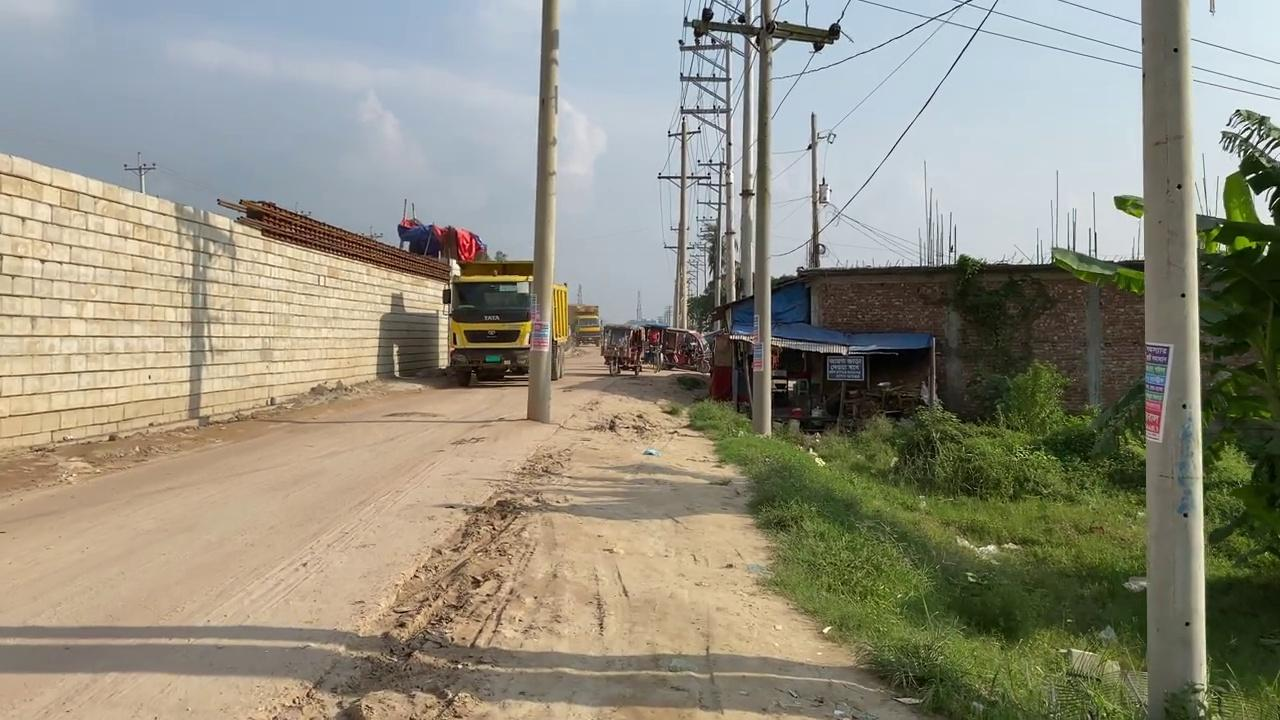Pole: (1140, 0, 1208, 719), (525, 1, 560, 423), (749, 1, 774, 437)
Rickshaw: (555, 427, 792, 720)
Traffic-sign: (1050, 106, 1279, 565)
Tree: (216, 196, 569, 386), (442, 253, 569, 386), (573, 304, 601, 346)
Upstairs: (0, 150, 452, 450)
